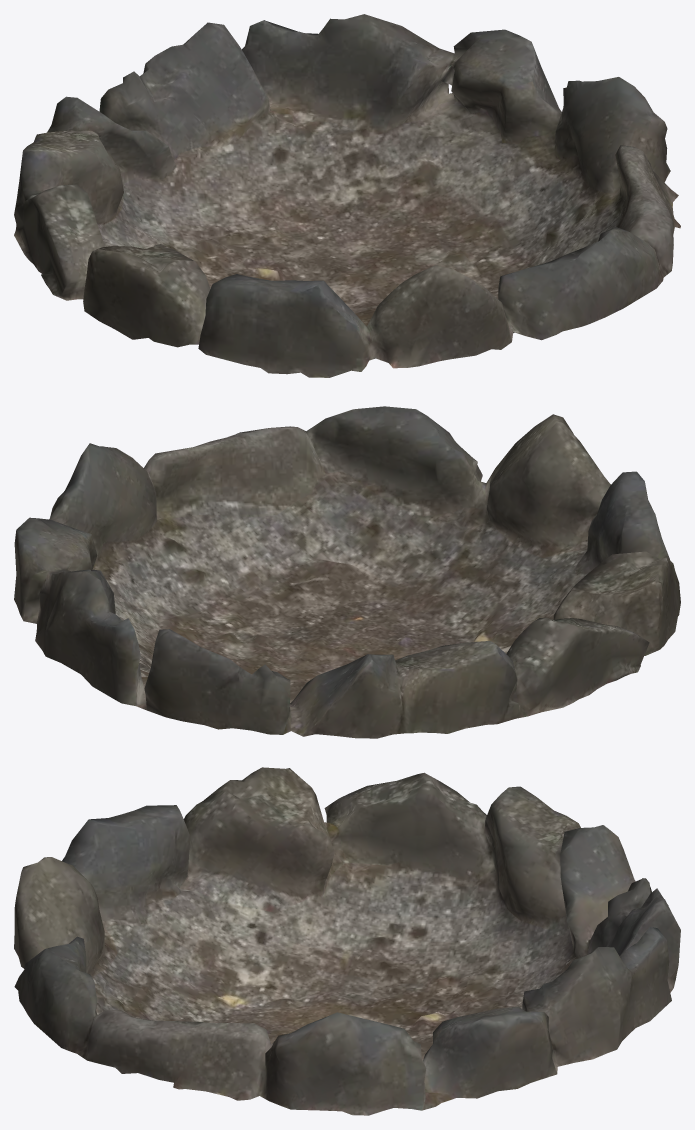
File: fire-pit.glb
The picture shows the model from 3 angles, top to bottom: view 1: azimuth 30°, elevation 25°; view 2: azimuth 150°, elevation 25°; view 3: azimuth 270°, elevation 25°; orthographic projection.
Parts seen in each view (by area): view 1: stone_fire_pit; view 2: stone_fire_pit; view 3: stone_fire_pit.
Part boxes in pixels (x1,y1,x2,y2): stone_fire_pit: (14, 14, 680, 377); stone_fire_pit: (14, 406, 680, 738); stone_fire_pit: (14, 767, 680, 1115).
Size of the model in its own units: 1.45 by 0.3883 by 1.43.
1 material, 1 textured.
